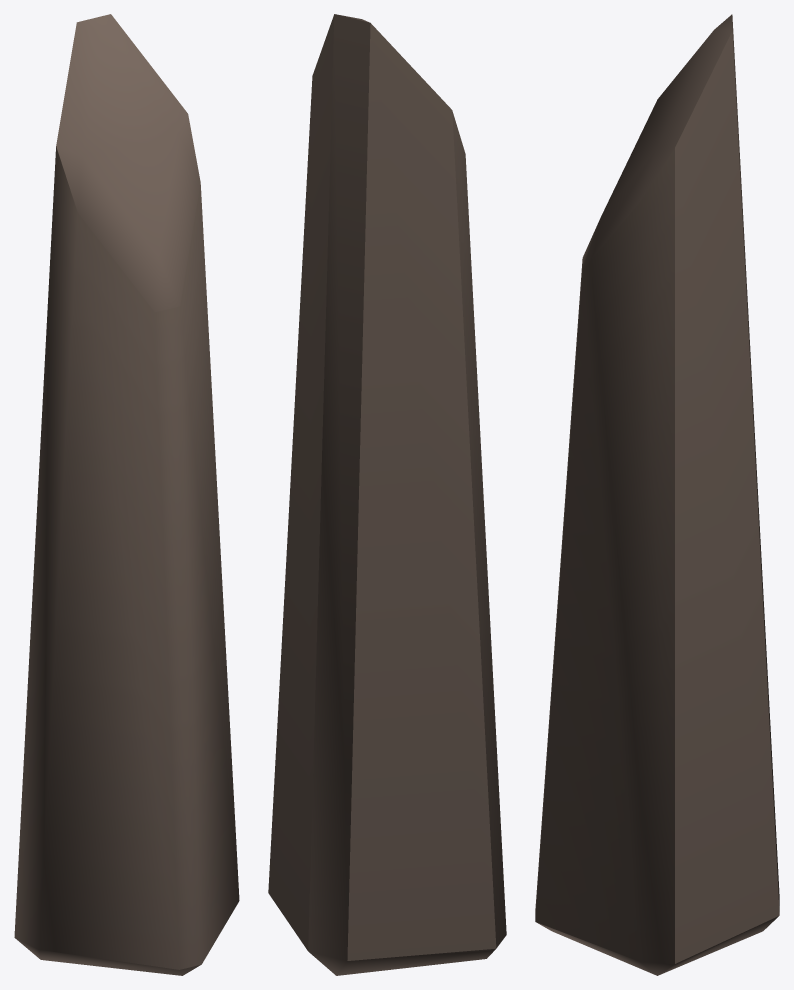
File: Rock_4_B_Color6.fbx
3 renders of one model, left to right at view 1: azimuth 30°, elevation 25°; view 2: azimuth 150°, elevation 25°; view 3: azimuth 270°, elevation 25°, orthographic. The views are drawn at different scales.
Parts seen in each view (by area): view 1: Rock_4_B_Color6; view 2: Rock_4_B_Color6; view 3: Rock_4_B_Color6.
Part boxes in pixels (x1,y1,x2,y2): Rock_4_B_Color6: [14, 14, 239, 975]; Rock_4_B_Color6: [268, 14, 506, 975]; Rock_4_B_Color6: [535, 14, 779, 975].
Size of the model in its own units: 0.4931 by 1.95 by 0.4761.
